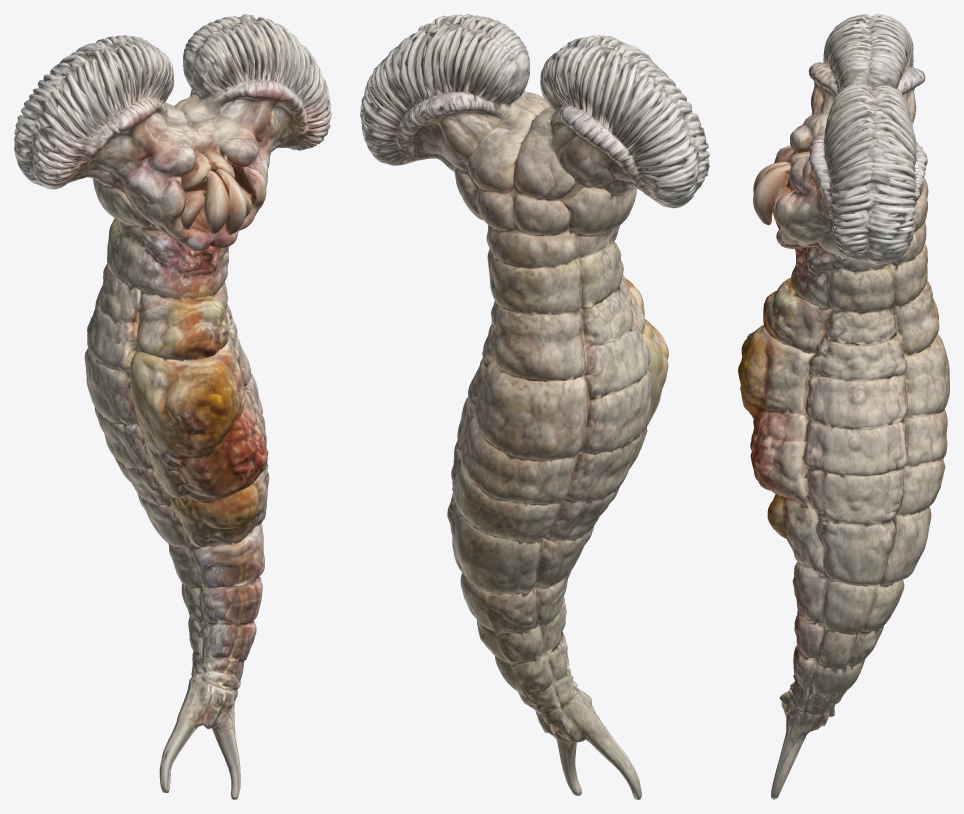
File: rotifer.glb
3 renders of one model, left to right at view 1: azimuth 30°, elevation 25°; view 2: azimuth 150°, elevation 25°; view 3: azimuth 270°, elevation 25°, orthographic. The views are drawn at different scales.
Parts seen in each view (by area): view 1: tripo_node_a92d9f00-74c3-4346-b4fb-2892d851166b; view 2: tripo_node_a92d9f00-74c3-4346-b4fb-2892d851166b; view 3: tripo_node_a92d9f00-74c3-4346-b4fb-2892d851166b.
Part boxes in pixels (x1,y1,x2,y2): tripo_node_a92d9f00-74c3-4346-b4fb-2892d851166b: (14,14,331,799); tripo_node_a92d9f00-74c3-4346-b4fb-2892d851166b: (360,14,709,799); tripo_node_a92d9f00-74c3-4346-b4fb-2892d851166b: (738,14,949,799).
Size of the model in its own units: 0.4165 by 0.9804 by 0.2534.
Materials: 1 (1 with a texture image).
